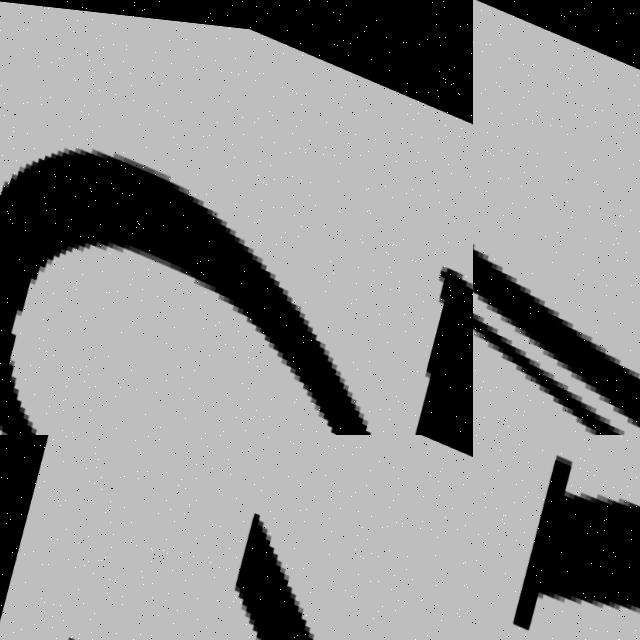1: (473, 27, 640, 435)
2: (0, 67, 473, 435)
K: (0, 435, 473, 640)
W: (473, 435, 640, 640)
